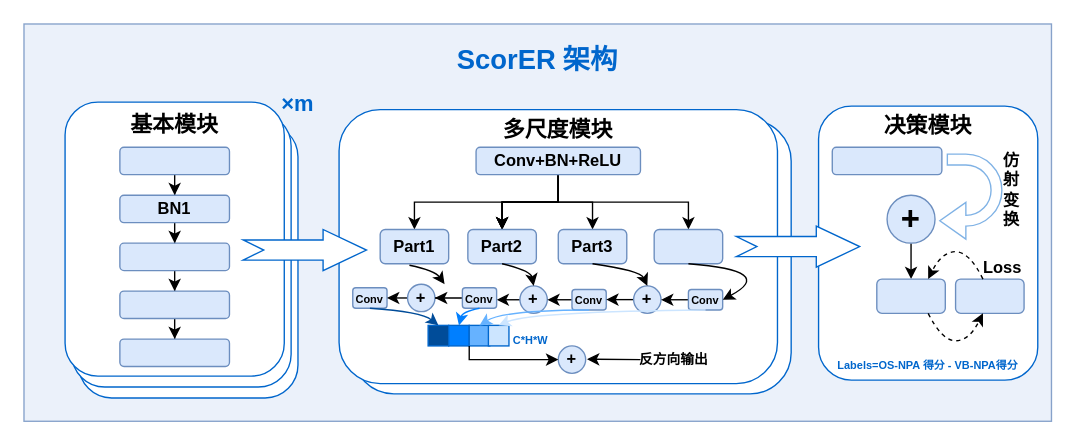
Some shapes in this 1075 by 445 pixel diagram are drawn without their labels. Each missing label, with the centre of its shape:
BN2: pixel 174 352
Conv1: pixel 174 160
Conv2: pixel 174 304
Labels: pixel 989 295
Part4: pixel 688 246
Preds: pixel 910 295
ReLU: pixel 174 256
VB-NPA 得分: pixel 886 160
